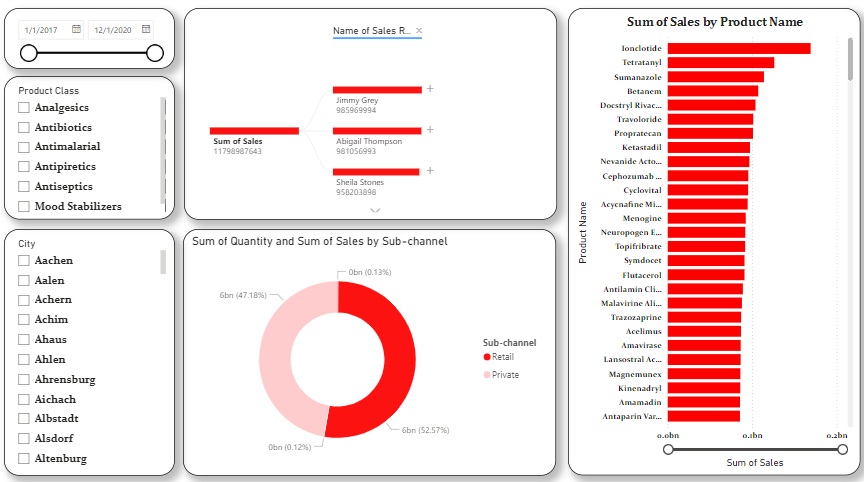

This screenshot's page, from the dashboard's own definition file:
{"tool":"powerbi","page":{"name":"Page 1","canvas":[1280,720],"ordinal":0},"visuals":[{"type":"slicer","fields":{"Values":["Data.Date"]},"box":[11.8,18.5,250.3,89],"z":0},{"type":"slicer","fields":{"Values":["Product.Product Class"]},"box":[11.8,119.3,250.3,210],"z":1000},{"type":"barChart","fields":{"Category":["Product.Product Name"],"Y":["Data.Sales"]},"box":[836.4,18.7,428.3,684.1],"z":2000},{"type":"decompositionTreeVisual","fields":{"ExplainBy":["Sales.Name of Sales Rep","Product.Product Name"],"Analyze":["Data.Sales"]},"box":[274.5,18.7,546.1,310.4],"z":3000},{"type":"slicer","fields":{"Values":["Location.City"]},"box":[11.5,342,250.1,360.7],"z":4000},{"type":"donutChart","fields":{"Category":["Channel.Sub-channel"],"Y":["Data.Quantity","Data.Sales"]},"box":[274,342,546,361],"z":5000}]}

Visuals, with their boxes in screenshot pixels (x1, y1, x2, y2), scaled from the page's 1280x720 canvas onto the 864x482 screenshot:
slicer - Data.Date: left=8, top=12, right=177, bottom=72
slicer - Product.Product Class: left=8, top=80, right=177, bottom=220
barChart - Product.Product Name x Data.Sales: left=565, top=13, right=854, bottom=470
decompositionTreeVisual - Sales.Name of Sales Rep x Product.Product Name: left=185, top=13, right=554, bottom=220
slicer - Location.City: left=8, top=229, right=177, bottom=470
donutChart - Channel.Sub-channel x Data.Quantity: left=185, top=229, right=554, bottom=471
